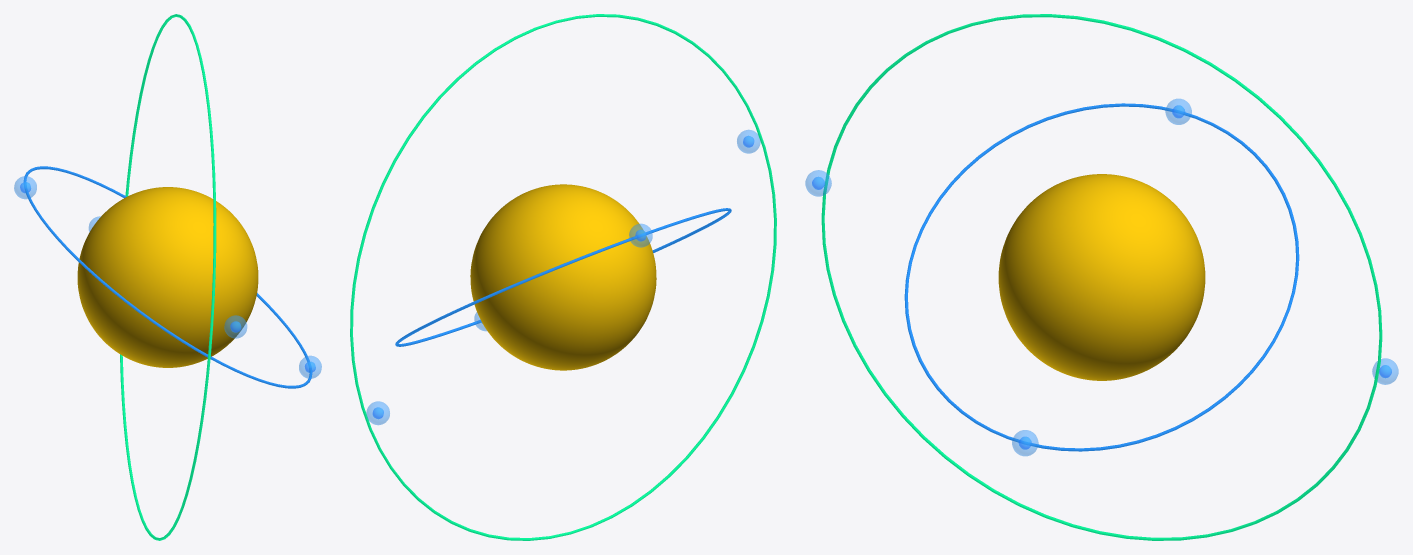
The picture shows the model from 3 angles, left to right: view 1: azimuth 30°, elevation 25°; view 2: azimuth 150°, elevation 25°; view 3: azimuth 270°, elevation 25°; orthographic projection. The views are drawn at different scales.
Parts seen in each view (by area): view 1: Be, object 7, object 2, object 8, object 3, object 5; view 2: Be, object 7, object 2; view 3: Be, object 7, object 2.
Part boxes in pixels (x1,y1,x2,y2): Be: (77, 187, 258, 367); object 7: (120, 14, 216, 540); object 2: (23, 166, 312, 388); object 8: (224, 315, 247, 338); object 3: (299, 355, 321, 378); object 5: (14, 176, 36, 199); Be: (470, 184, 656, 370); object 7: (350, 14, 776, 540); object 2: (395, 208, 731, 346); Be: (998, 174, 1205, 380); object 7: (821, 14, 1382, 540); object 2: (904, 103, 1299, 451).
Size of the model in its own units: 2.03 by 3.6 by 3.56.
